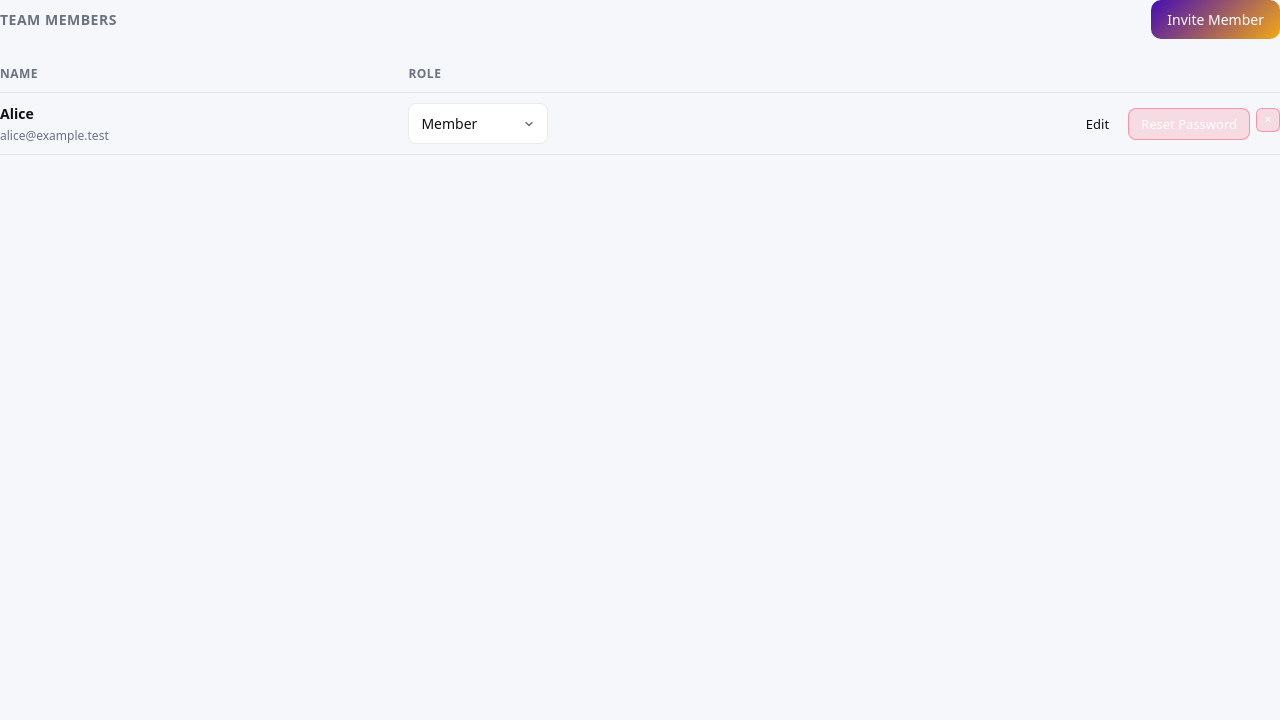
MemberSettings remove confirmation › keeps the member when the confirmation is cancelled
The width and height of the screenshot is (1280, 720).
Click the button titled "Remove member" at (1268, 120), box [1256,108,1279,132]
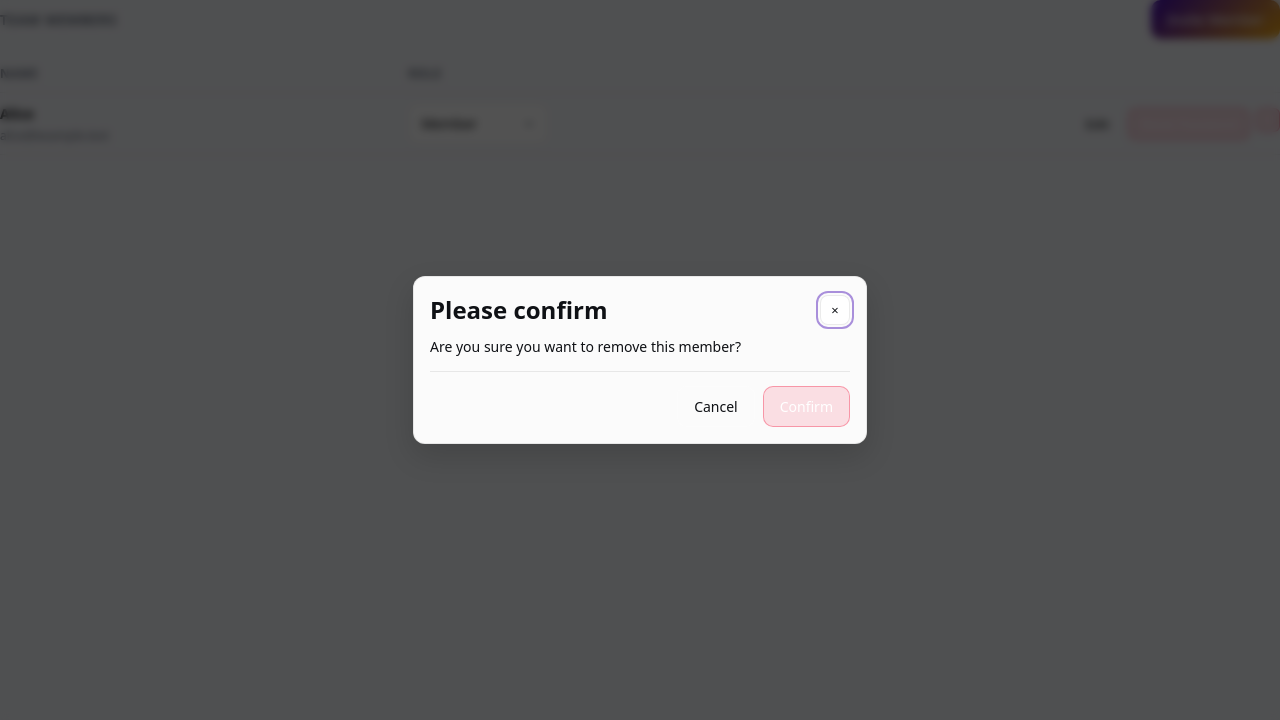
Click the button "Cancel" at (716, 406), box [677,386,755,427]
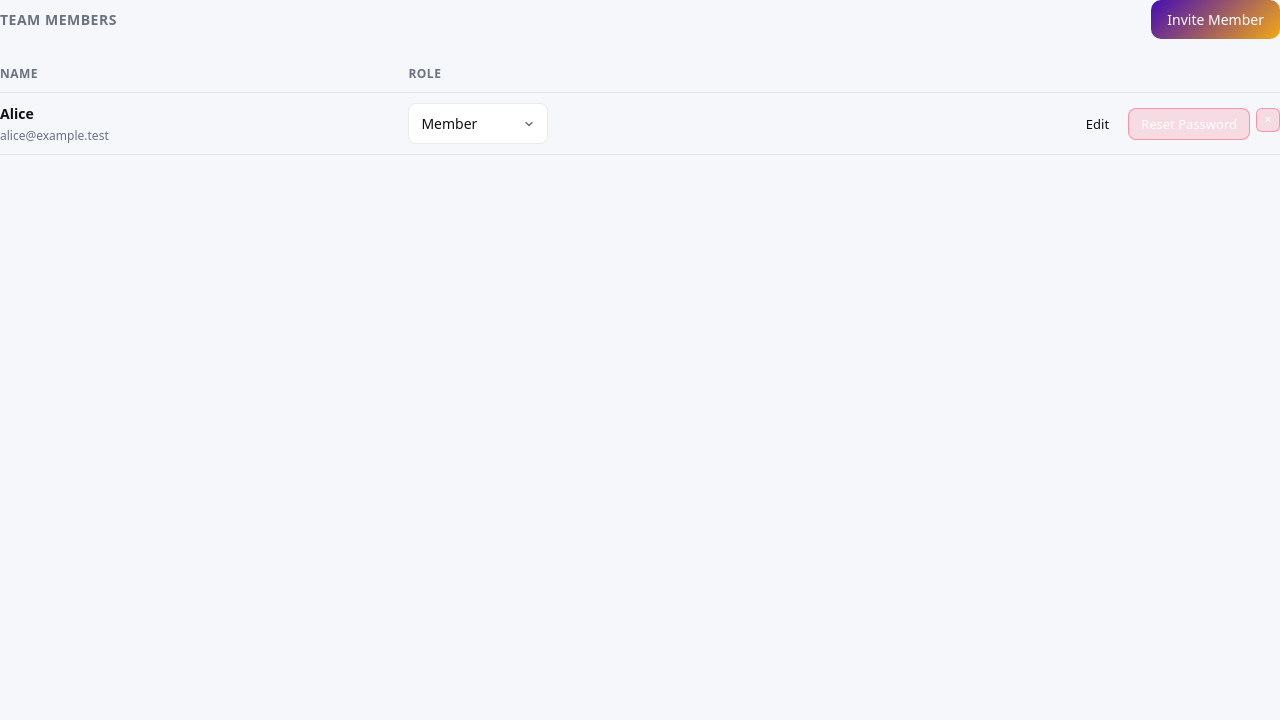
Result: the text "Are you sure you want to remove this member?" is gone
